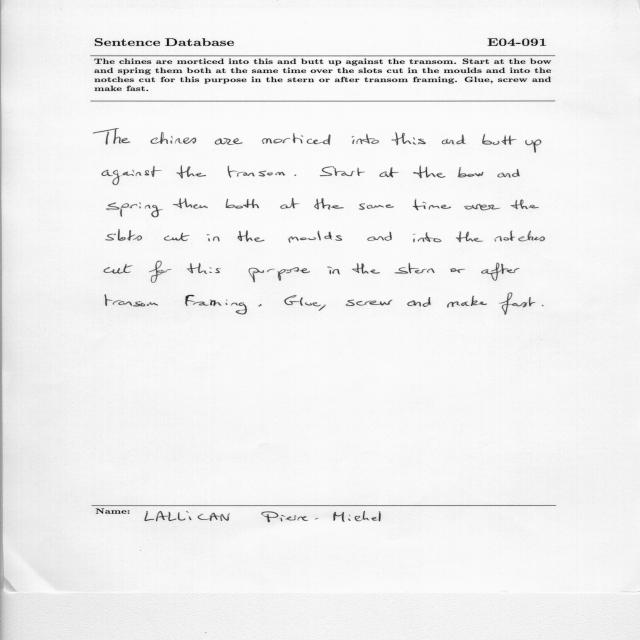word: (185, 295, 247, 314), (102, 166, 162, 185), (249, 267, 310, 282), (107, 203, 163, 218), (262, 133, 331, 145), (499, 293, 536, 315), (105, 294, 158, 307), (228, 166, 285, 178), (482, 263, 520, 281), (284, 295, 326, 311), (288, 231, 342, 243), (93, 129, 130, 145), (494, 231, 545, 242), (151, 132, 196, 144), (149, 261, 171, 283), (447, 296, 487, 308), (391, 132, 426, 145), (320, 166, 365, 176), (106, 229, 142, 241), (413, 199, 451, 210), (395, 263, 435, 273), (176, 166, 206, 179), (482, 134, 517, 145), (173, 198, 208, 209), (413, 166, 445, 178), (187, 263, 220, 274), (314, 198, 344, 210), (237, 230, 265, 242), (226, 199, 259, 209), (352, 263, 380, 274), (456, 231, 483, 242), (413, 232, 442, 242), (104, 264, 133, 274), (511, 200, 539, 210), (352, 134, 379, 144), (458, 167, 484, 177), (359, 203, 394, 210), (442, 135, 466, 145), (407, 297, 431, 307), (367, 232, 392, 241), (525, 139, 541, 153), (379, 167, 399, 178), (280, 198, 300, 209), (464, 204, 500, 210), (356, 300, 392, 306), (497, 169, 520, 178), (164, 233, 189, 241), (215, 138, 243, 145), (207, 234, 220, 242), (327, 267, 340, 275), (450, 268, 465, 273), (346, 300, 355, 306), (258, 304, 262, 306), (295, 175, 297, 176), (542, 305, 544, 306)
